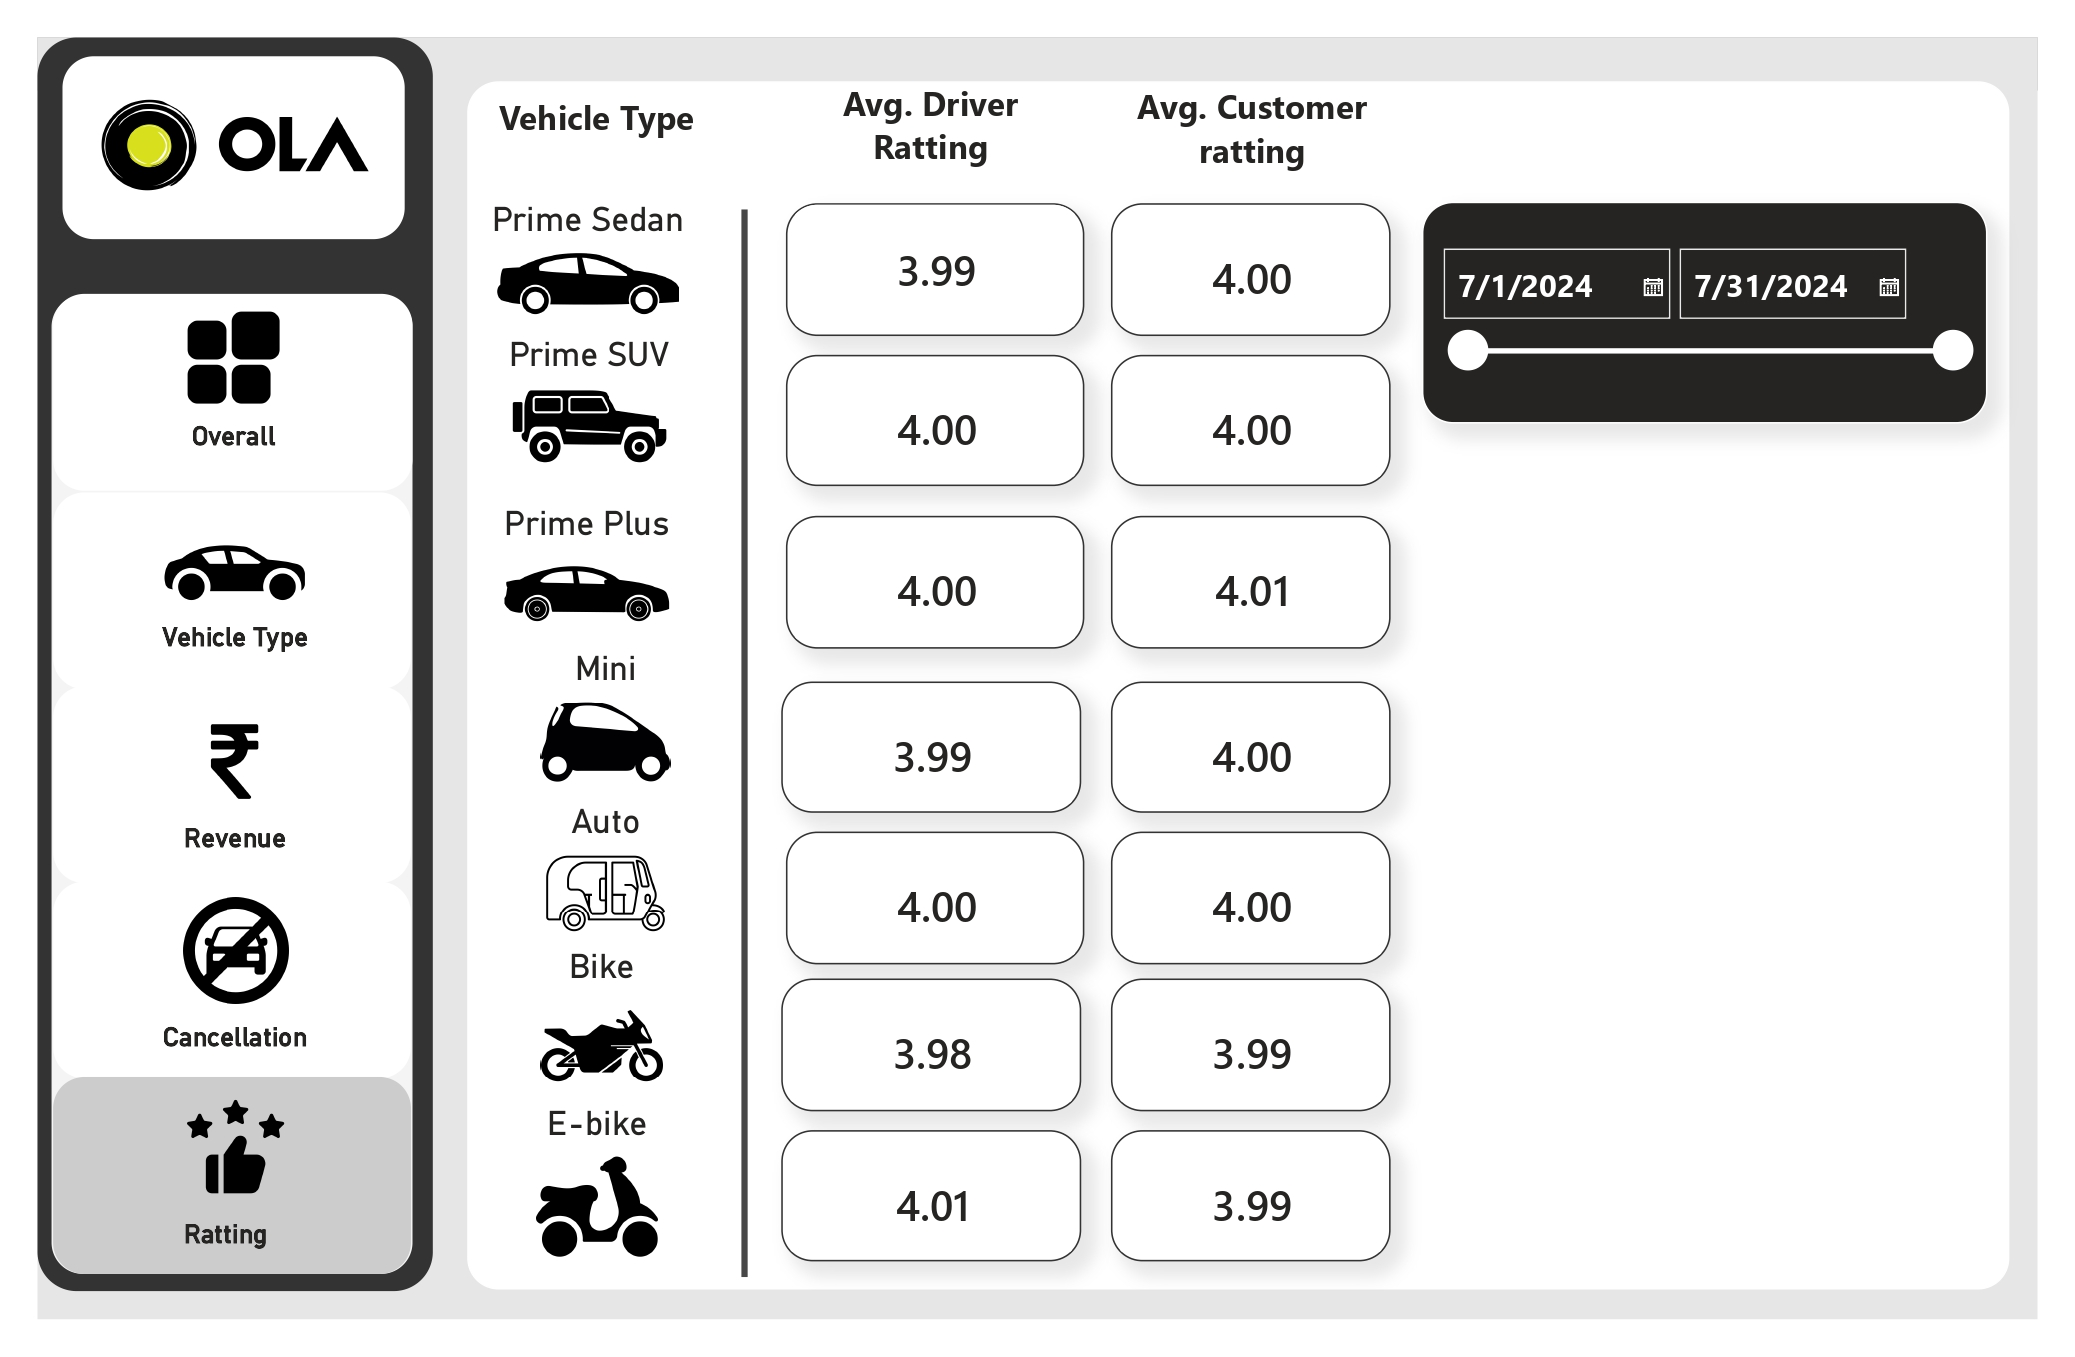

What the dashboard file says about the page in this screenshot:
{"tool":"powerbi","page":{"name":"Ratting","canvas":[1280,820],"ordinal":4},"visuals":[{"type":"group","id":"g1","title":"Group 2","box":[0,0,252.9,801.7],"z":0},{"type":"shape","box":[0,0,252.9,801.7],"z":0,"group":"g1"},{"type":"shape","box":[15.9,12.4,219.5,116.8],"z":0,"group":"g2"},{"type":"shape","box":[275.4,28.7,987.2,773],"z":0,"group":"g3"},{"type":"shape","box":[10,164.3,230,126.1],"z":0,"group":"g5"},{"type":"shape","box":[9.3,164.7,230.6,626.1],"z":0,"group":"g4"},{"type":"shape","box":[10.1,290.5,229.1,126.1],"z":0,"group":"g6"},{"type":"shape","box":[9.9,415.4,229.1,126.1],"z":0,"group":"g7"},{"type":"shape","box":[9.9,540.3,229.1,126.1],"z":0,"group":"g8"},{"type":"shape","box":[10.2,664.6,229.1,126.1],"z":0,"group":"g9"},{"type":"group","id":"g2","title":"Group 1","box":[15.9,12.4,219.5,116.8],"z":1000,"group":"g1"},{"type":"image","box":[39.8,20.4,173.3,97.6],"z":1000,"group":"g2"},{"type":"group","id":"g3","title":"Group 3","box":[275.4,22.5,987.2,779.2],"z":1000},{"type":"slicer","title":"Date","fields":{"Values":["Ola_Bookings_July.Date"]},"box":[886,104.9,361.5,142.4],"z":2000},{"type":"image","title":"Prime Sedan","box":[290.6,105,124.1,75.5],"z":2000,"group":"g3"},{"type":"group","id":"g4","title":"Group 1","box":[9.3,164.7,230.6,626.1],"z":2000,"group":"g1"},{"type":"textbox","box":[13.3,240.2,224.6,46],"z":2000,"group":"g5"},{"type":"textbox","box":[11.9,367.6,229.1,42.4],"z":2000,"group":"g6"},{"type":"textbox","box":[11.7,497.2,229.1,42.4],"z":2000,"group":"g7"},{"type":"textbox","box":[11.7,624.7,229.1,42.4],"z":2000,"group":"g8"},{"type":"textbox","box":[6,750,229.1,42.4],"z":2000,"group":"g9"},{"type":"image","box":[77.8,171.7,94.4,66.8],"z":2500,"group":"g5"},{"type":"image","title":"Overall","box":[29.9,294.7,192.2,94],"z":2500,"group":"g6"},{"type":"image","box":[86.7,434.6,77.8,58.1],"z":2500,"group":"g7"},{"type":"image","box":[56.7,550.7,138.9,68],"z":2500,"group":"g8"},{"type":"image","box":[66,674.1,121.1,70.5],"z":2500,"group":"g9"},{"type":"image","title":"Prime SUV","box":[301.7,191,103.4,86],"z":3000,"group":"g3"},{"type":"group","id":"g5","title":"Overall","box":[10,164.3,230,126.1],"z":4000,"group":"g1"},{"type":"image","title":"Mini","box":[322.4,391.1,82.7,89.5],"z":4000,"group":"g3"},{"type":"image","title":"Prime Plus","box":[295.3,298.1,112.9,93],"z":5000,"group":"g3"},{"type":"image","title":"Auto","box":[322.4,489.4,82.7,87.8],"z":6000,"group":"g3"},{"type":"image","title":"Bike","box":[322.4,582.4,77.9,96.5],"z":7000,"group":"g3"},{"type":"image","title":"E-bike","box":[319.2,682.4,77.9,101.8],"z":8000,"group":"g3"},{"type":"textbox","box":[281,31.3,154.3,52.7],"z":9000,"group":"g3"},{"type":"group","id":"g6","title":"Vehicle type","box":[10.1,290.5,230.9,126.1],"z":9000,"group":"g1"},{"type":"textbox","box":[487.8,22.5,168.6,82.5],"z":10000,"group":"g3"},{"type":"group","id":"g7","title":"Revenue","box":[9.9,415.4,230.9,126.1],"z":10000,"group":"g1"},{"type":"textbox","box":[693.9,24.9,168.2,80.9],"z":11000,"group":"g3"},{"type":"group","id":"g8","title":"cancellation","box":[9.9,540.3,230.9,126.8],"z":11000,"group":"g1"},{"type":"group","id":"g9","title":"rating","box":[6,664.6,233.3,127.8],"z":12000,"group":"g1"},{"type":"shape","box":[427.4,110.3,50.9,682.8],"z":14000,"group":"g3"},{"type":"cardVisual","title":"Total Bookings","fields":{"Data":["Avg(Ola_Bookings_July.Driver_Ratings)"]},"box":[479,106.6,191.8,84.7],"z":15000,"group":"g3"},{"type":"cardVisual","title":"Total Bookings","fields":{"Data":["Avg(Ola_Bookings_July.Customer_Rating)"]},"box":[479,203,191.8,84.7],"z":16000,"group":"g3"},{"type":"cardVisual","title":"Total Bookings","fields":{"Data":["Avg(Ola_Bookings_July.Driver_Ratings)"]},"box":[479,306.5,191.8,84.7],"z":17000,"group":"g3"},{"type":"cardVisual","title":"Total Bookings","fields":{"Data":["Avg(Ola_Bookings_July.Driver_Ratings)"]},"box":[476.8,412.3,191.8,84.7],"z":18000,"group":"g3"},{"type":"cardVisual","title":"Total Bookings","fields":{"Data":["Avg(Ola_Bookings_July.Driver_Ratings)"]},"box":[479,508.7,191.8,84.7],"z":19000,"group":"g3"},{"type":"cardVisual","title":"Total Bookings","fields":{"Data":["Avg(Ola_Bookings_July.Driver_Ratings)"]},"box":[476.8,602.8,191.8,84.7],"z":20000,"group":"g3"},{"type":"cardVisual","title":"Total Bookings","fields":{"Data":["Avg(Ola_Bookings_July.Driver_Ratings)"]},"box":[476.8,699.2,191.8,84.7],"z":21000,"group":"g3"},{"type":"cardVisual","title":"Total Bookings","fields":{"Data":["Avg(Ola_Bookings_July.Customer_Rating)"]},"box":[687.8,106.6,179,84.7],"z":22000,"group":"g3"},{"type":"cardVisual","title":"Total Bookings","fields":{"Data":["Avg(Ola_Bookings_July.Customer_Rating)"]},"box":[687.8,203,179,84.7],"z":25000,"group":"g3"},{"type":"cardVisual","title":"Total Bookings","fields":{"Data":["Avg(Ola_Bookings_July.Customer_Rating)"]},"box":[687.8,306.5,179,84.7],"z":26000,"group":"g3"},{"type":"cardVisual","title":"Total Bookings","fields":{"Data":["Avg(Ola_Bookings_July.Customer_Rating)"]},"box":[687.8,412.3,179,84.7],"z":27000,"group":"g3"},{"type":"cardVisual","title":"Total Bookings","fields":{"Data":["Avg(Ola_Bookings_July.Customer_Rating)"]},"box":[687.8,508.7,179,84.7],"z":28000,"group":"g3"},{"type":"cardVisual","title":"Total Bookings","fields":{"Data":["Avg(Ola_Bookings_July.Customer_Rating)"]},"box":[687.8,602.8,179,84.7],"z":29000,"group":"g3"},{"type":"cardVisual","title":"Total Bookings","fields":{"Data":["Avg(Ola_Bookings_July.Customer_Rating)"]},"box":[687.8,699.2,179,84.7],"z":30000,"group":"g3"}]}

Visuals, with their boxes on the page's 1280x820 design canvas (x1, y1, x2, y2). These are canvas units, not pixel positions in the 2075x1357 screenshot, which may show the page scaled, cropped or inside an application window:
"Group 2" group: left=0, top=0, right=253, bottom=802
shape: left=0, top=0, right=253, bottom=802
shape: left=16, top=12, right=235, bottom=129
shape: left=275, top=29, right=1263, bottom=802
shape: left=10, top=164, right=240, bottom=290
shape: left=9, top=165, right=240, bottom=791
shape: left=10, top=290, right=239, bottom=417
shape: left=10, top=415, right=239, bottom=542
shape: left=10, top=540, right=239, bottom=666
shape: left=10, top=665, right=239, bottom=791
"Group 1" group: left=16, top=12, right=235, bottom=129
image: left=40, top=20, right=213, bottom=118
"Group 3" group: left=275, top=22, right=1263, bottom=802
"Date" slicer: left=886, top=105, right=1248, bottom=247
"Prime Sedan" image: left=291, top=105, right=415, bottom=180
"Group 1" group: left=9, top=165, right=240, bottom=791
textbox: left=13, top=240, right=238, bottom=286
textbox: left=12, top=368, right=241, bottom=410
textbox: left=12, top=497, right=241, bottom=540
textbox: left=12, top=625, right=241, bottom=667
textbox: left=6, top=750, right=235, bottom=792
image: left=78, top=172, right=172, bottom=238
"Overall" image: left=30, top=295, right=222, bottom=389
image: left=87, top=435, right=164, bottom=493
image: left=57, top=551, right=196, bottom=619
image: left=66, top=674, right=187, bottom=745
"Prime SUV" image: left=302, top=191, right=405, bottom=277
"Overall" group: left=10, top=164, right=240, bottom=290
"Mini" image: left=322, top=391, right=405, bottom=481
"Prime Plus" image: left=295, top=298, right=408, bottom=391
"Auto" image: left=322, top=489, right=405, bottom=577
"Bike" image: left=322, top=582, right=400, bottom=679
"E-bike" image: left=319, top=682, right=397, bottom=784
textbox: left=281, top=31, right=435, bottom=84
"Vehicle type" group: left=10, top=290, right=241, bottom=417
textbox: left=488, top=22, right=656, bottom=105
"Revenue" group: left=10, top=415, right=241, bottom=542
textbox: left=694, top=25, right=862, bottom=106
"cancellation" group: left=10, top=540, right=241, bottom=667
"rating" group: left=6, top=665, right=239, bottom=792
shape: left=427, top=110, right=478, bottom=793
"Total Bookings" cardVisual: left=479, top=107, right=671, bottom=191
"Total Bookings" cardVisual: left=479, top=203, right=671, bottom=288
"Total Bookings" cardVisual: left=479, top=306, right=671, bottom=391
"Total Bookings" cardVisual: left=477, top=412, right=669, bottom=497
"Total Bookings" cardVisual: left=479, top=509, right=671, bottom=593
"Total Bookings" cardVisual: left=477, top=603, right=669, bottom=688
"Total Bookings" cardVisual: left=477, top=699, right=669, bottom=784
"Total Bookings" cardVisual: left=688, top=107, right=867, bottom=191
"Total Bookings" cardVisual: left=688, top=203, right=867, bottom=288
"Total Bookings" cardVisual: left=688, top=306, right=867, bottom=391
"Total Bookings" cardVisual: left=688, top=412, right=867, bottom=497
"Total Bookings" cardVisual: left=688, top=509, right=867, bottom=593
"Total Bookings" cardVisual: left=688, top=603, right=867, bottom=688
"Total Bookings" cardVisual: left=688, top=699, right=867, bottom=784
